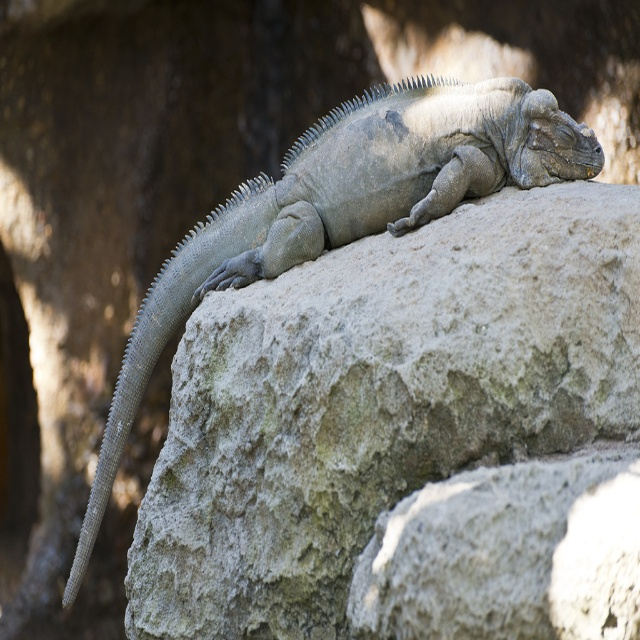Lizard: (62, 75, 603, 610)
